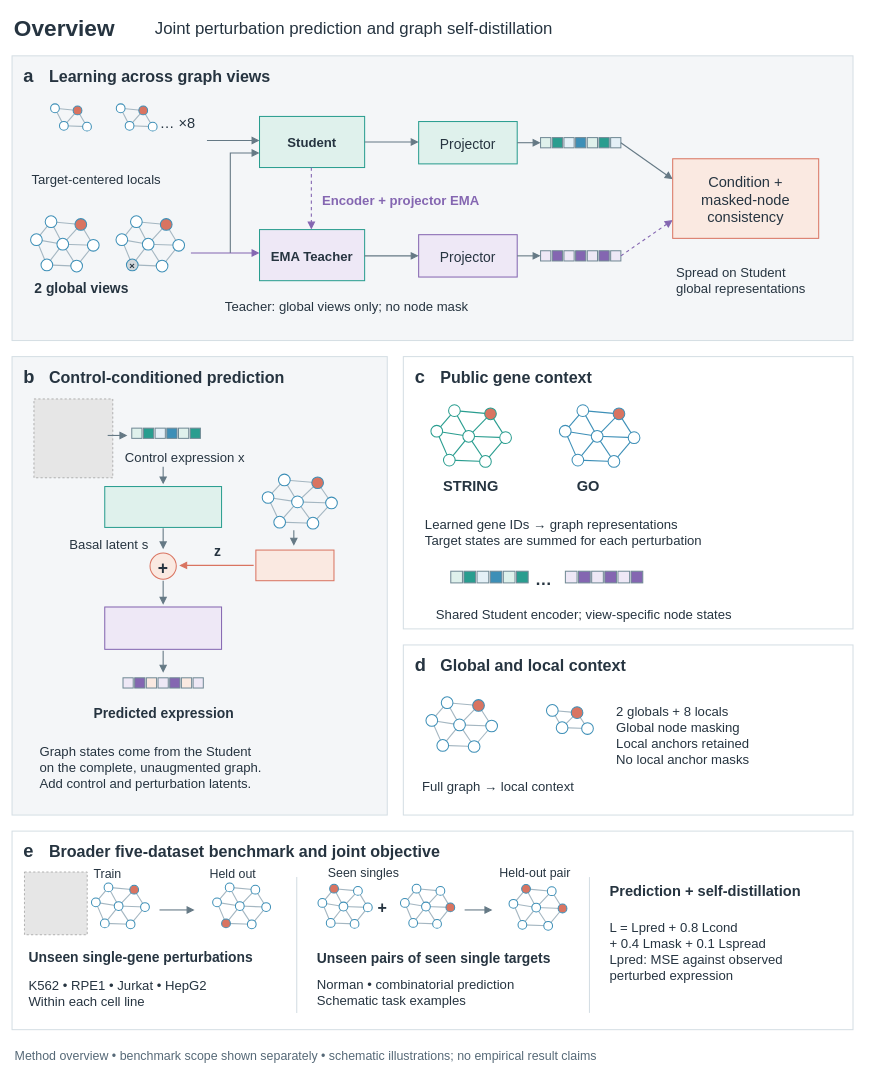
Some shapes in this 872 by 1076 pixel diagram are drawn without their labels. Grey dashed boxes stand in for pictures. Each missing label, with the box of its shape:
Basal encoder: (104, 486, 222, 528)
Decoder: (104, 606, 222, 649)
Σ targets: (255, 549, 334, 581)
